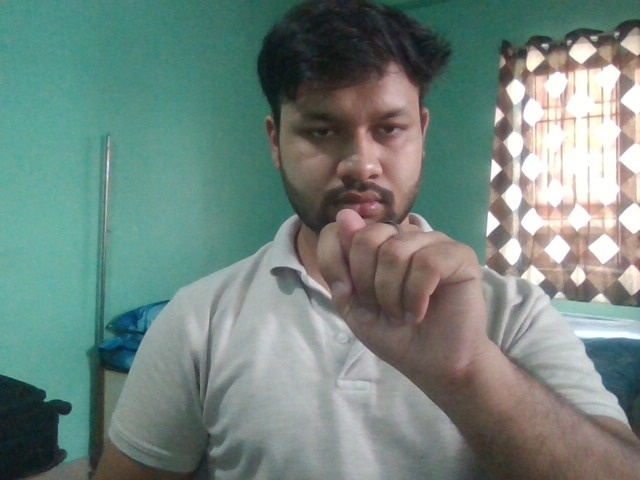Bathroom: (315, 207, 492, 385)
